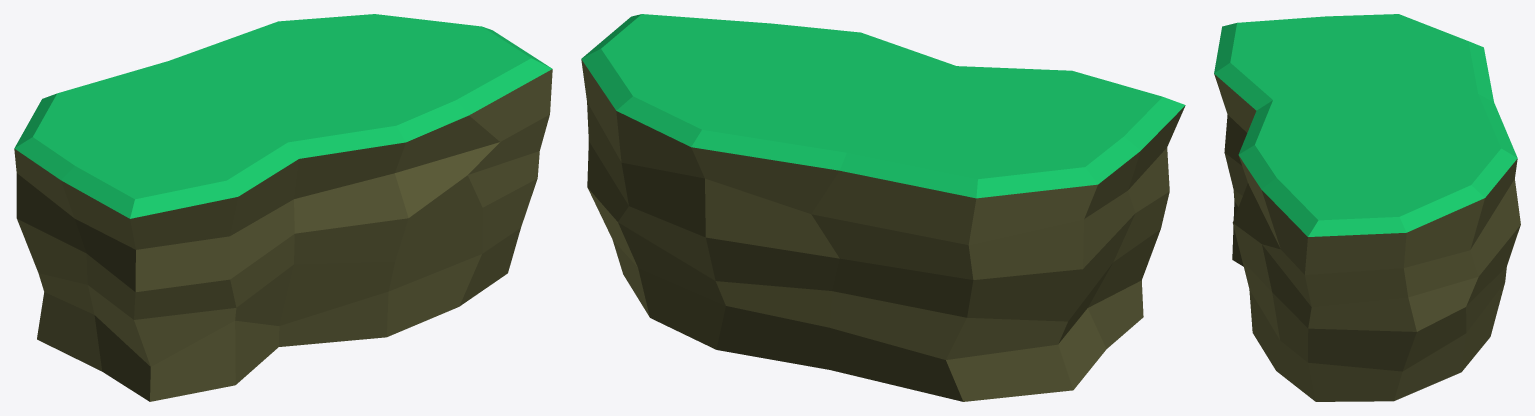
Rendered from Main Ground.fbx.
3 views of the same model, side by side, from view 1: azimuth 30°, elevation 25°; view 2: azimuth 150°, elevation 25°; view 3: azimuth 270°, elevation 25° (orthographic). The views are drawn at different scales.
Visible parts, largest first — view 1: Plane; view 2: Plane; view 3: Plane.
Part boxes in pixels (<box>): Plane: <box>14,14,552,401</box>; Plane: <box>581,14,1185,401</box>; Plane: <box>1214,14,1520,401</box>.
Size of the model in its own units: 144 by 59.79 by 84.68.
1 material, 1 textured.
